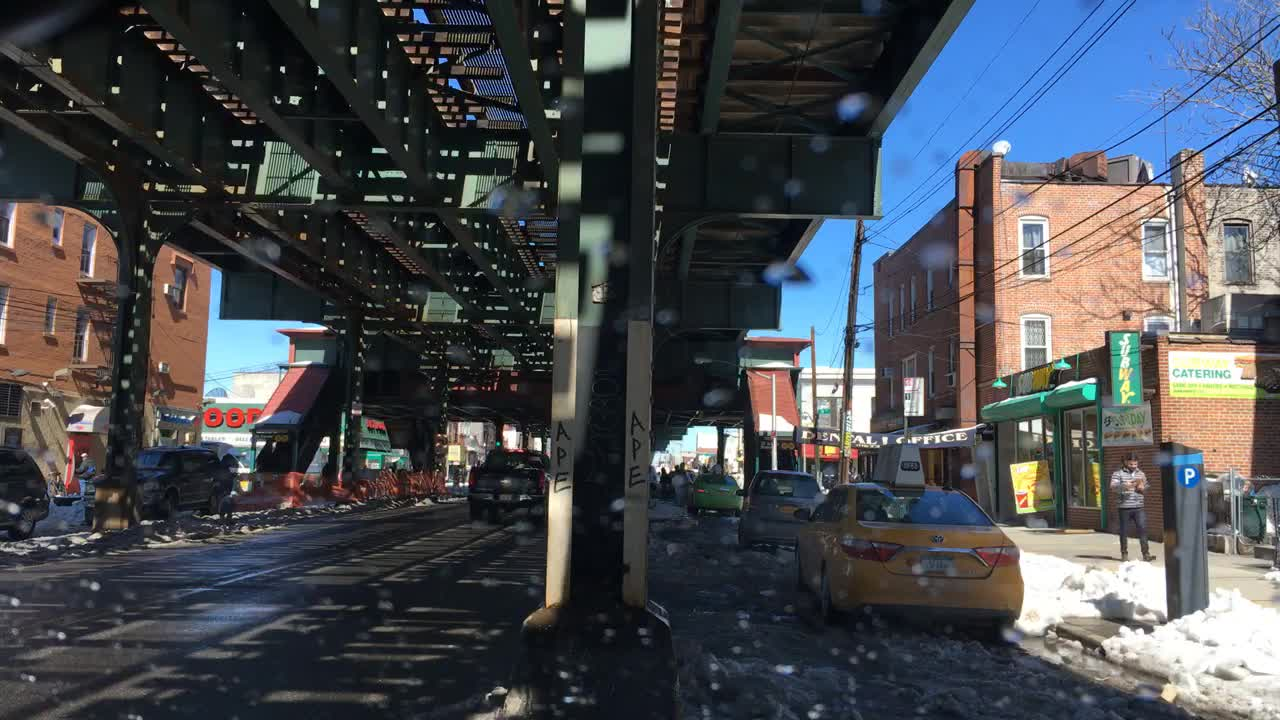bike: (47, 468, 67, 494)
car: (793, 479, 1026, 628), (85, 445, 220, 526), (736, 467, 824, 553), (465, 444, 548, 523), (0, 446, 55, 539), (684, 471, 741, 516)
person: (1108, 447, 1159, 562), (209, 451, 238, 525), (76, 450, 96, 499), (252, 432, 277, 469), (671, 465, 686, 507), (657, 465, 669, 496), (317, 461, 330, 487), (452, 464, 461, 487)
